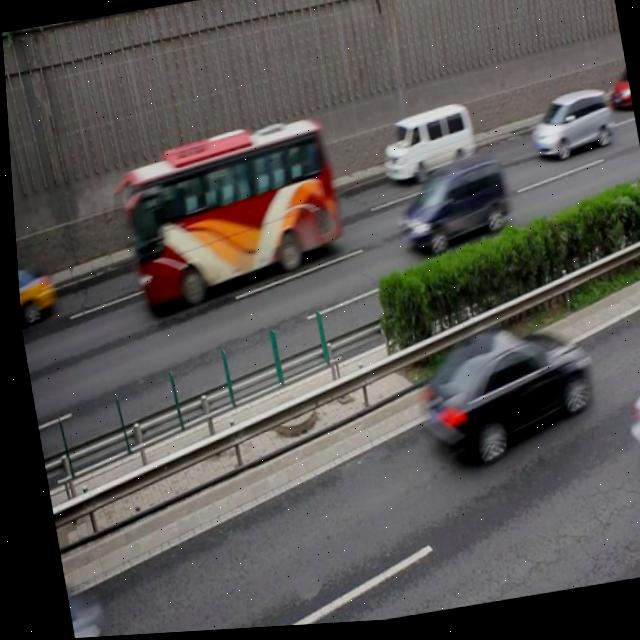car: (403, 313, 592, 475), (610, 354, 640, 496), (13, 255, 54, 330), (601, 68, 631, 119)
truck: (385, 155, 509, 261), (373, 104, 478, 189), (522, 90, 612, 167)
van: (113, 118, 344, 313)
